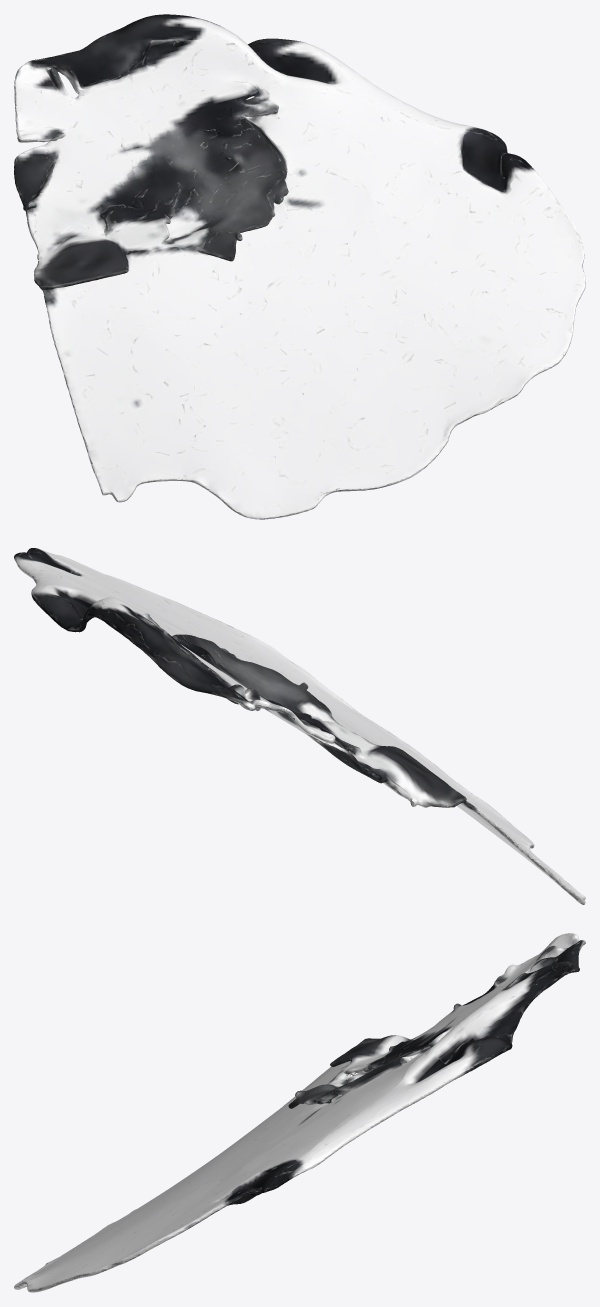
The picture shows the model from 3 angles, top to bottom: view 1: azimuth 30°, elevation 25°; view 2: azimuth 150°, elevation 25°; view 3: azimuth 270°, elevation 25°; orthographic projection. The views are drawn at different scales.
Parts seen in each view (by area): view 1: world; view 2: world; view 3: world.
Part boxes in pixels (bbox=[...]): world: bbox=[14, 14, 585, 519]; world: bbox=[14, 548, 585, 904]; world: bbox=[14, 933, 585, 1292].
Size of the model in its own units: 0.12 by 0.0795 by 0.1186.
1 material, 1 textured.
